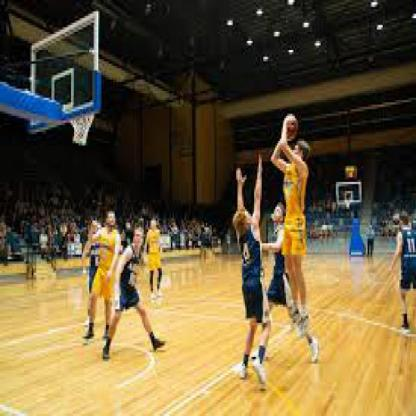basketball: (283, 114, 298, 141)
